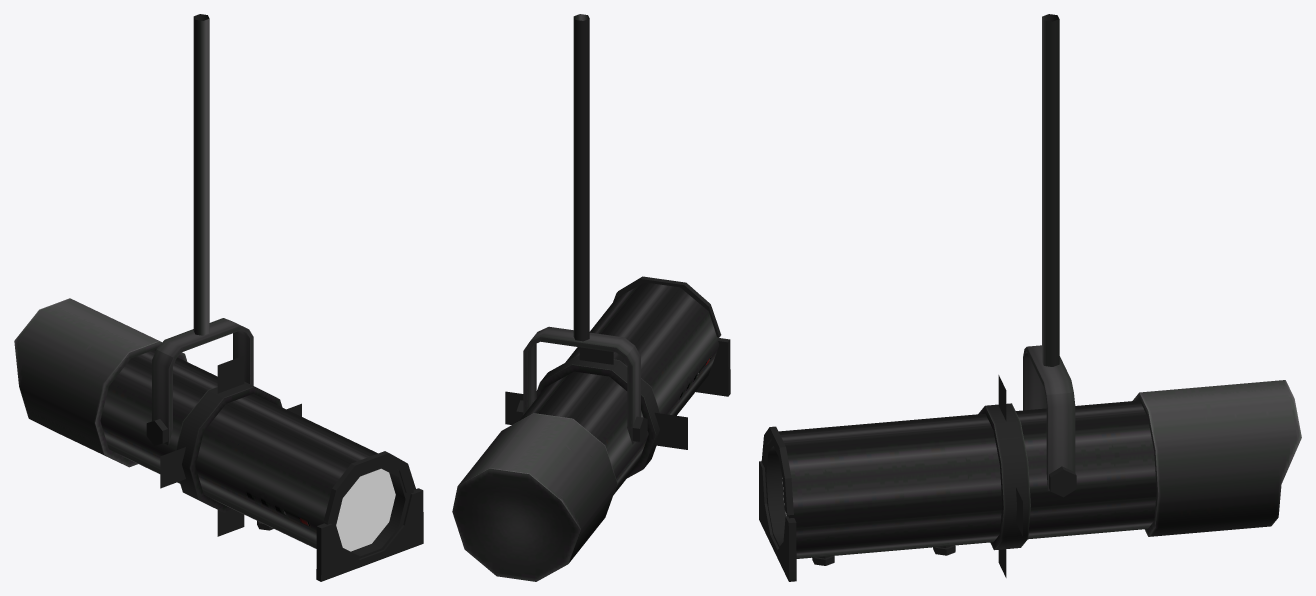
The model's file is stageLight.FBX.
The picture shows the model from 3 angles, left to right: view 1: azimuth 30°, elevation 25°; view 2: azimuth 150°, elevation 25°; view 3: azimuth 270°, elevation 25°; orthographic projection. The views are drawn at different scales.
Parts seen in each view (by area): view 1: stageLight; view 2: stageLight; view 3: stageLight.
Part boxes in pixels (bbox=[...]): stageLight: bbox=[14, 14, 423, 581]; stageLight: bbox=[452, 14, 730, 581]; stageLight: bbox=[759, 14, 1301, 581].
Size of the model in its own units: 37.97 by 93.79 by 84.07.
